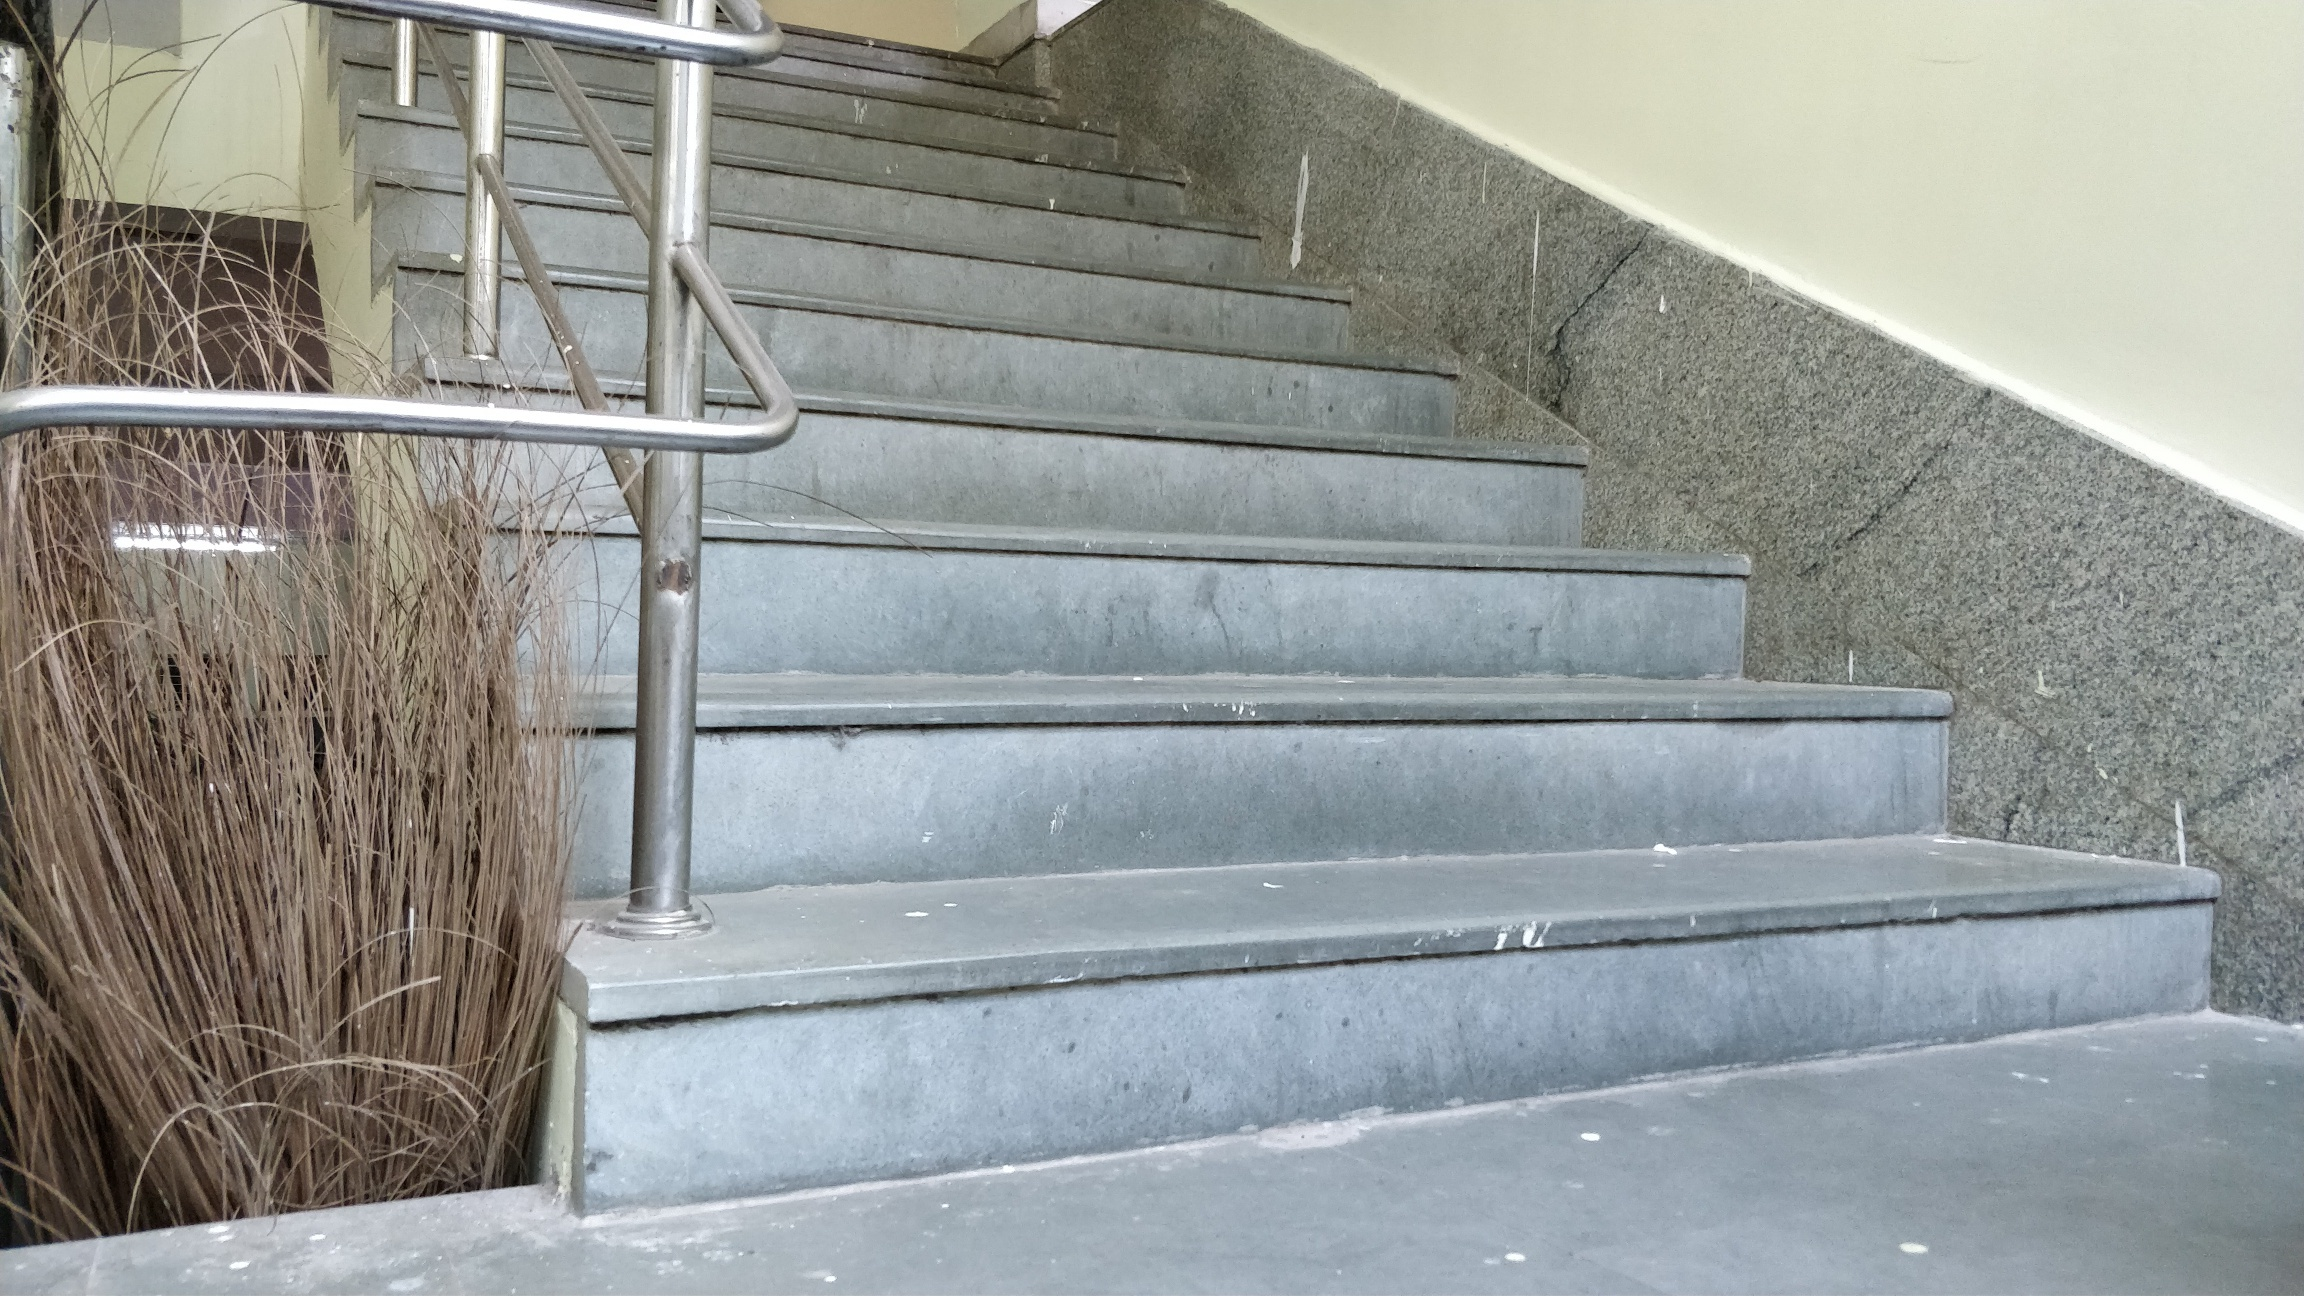stairs_up: (427, 30, 2182, 1051)
